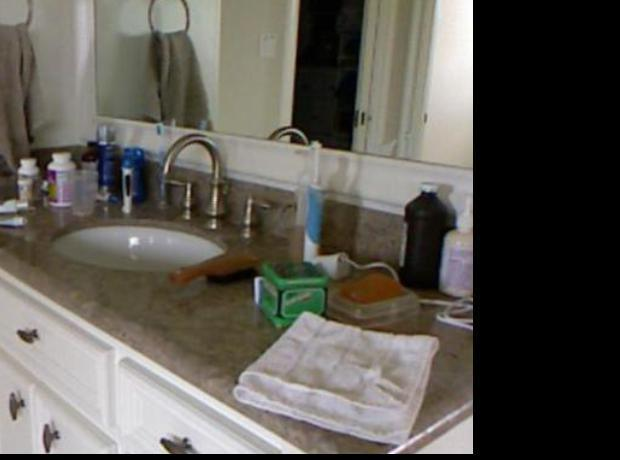Lavamanos: (47, 130, 277, 295)
